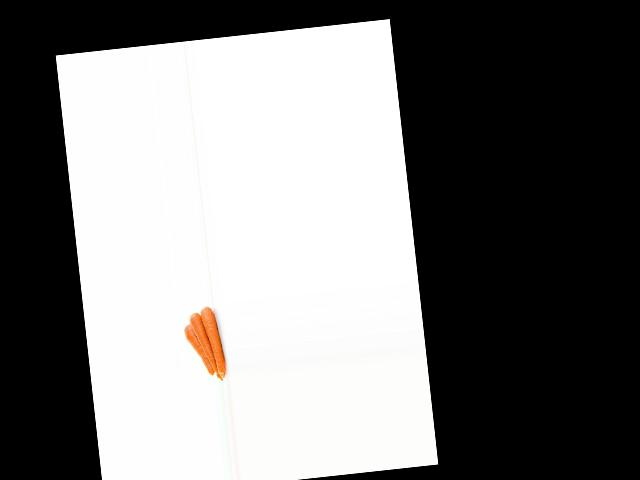carrot: (199, 302, 230, 379)
